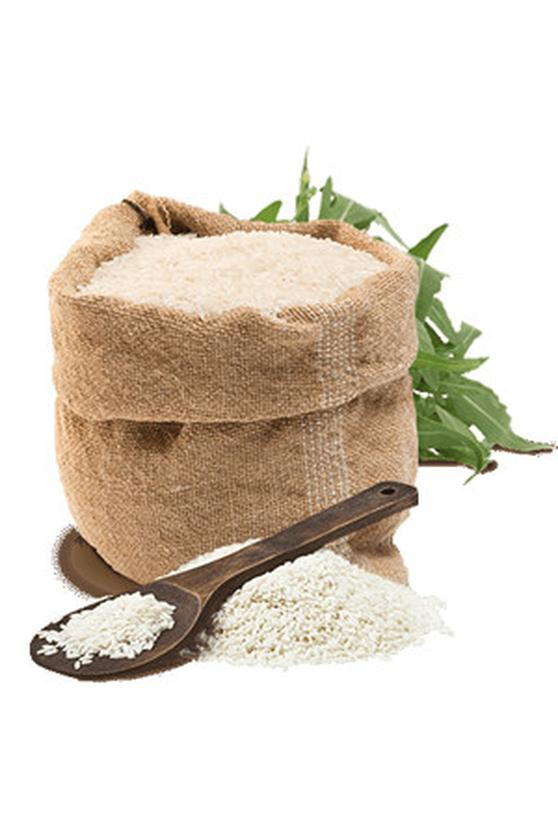rice: (64, 197, 417, 379)
